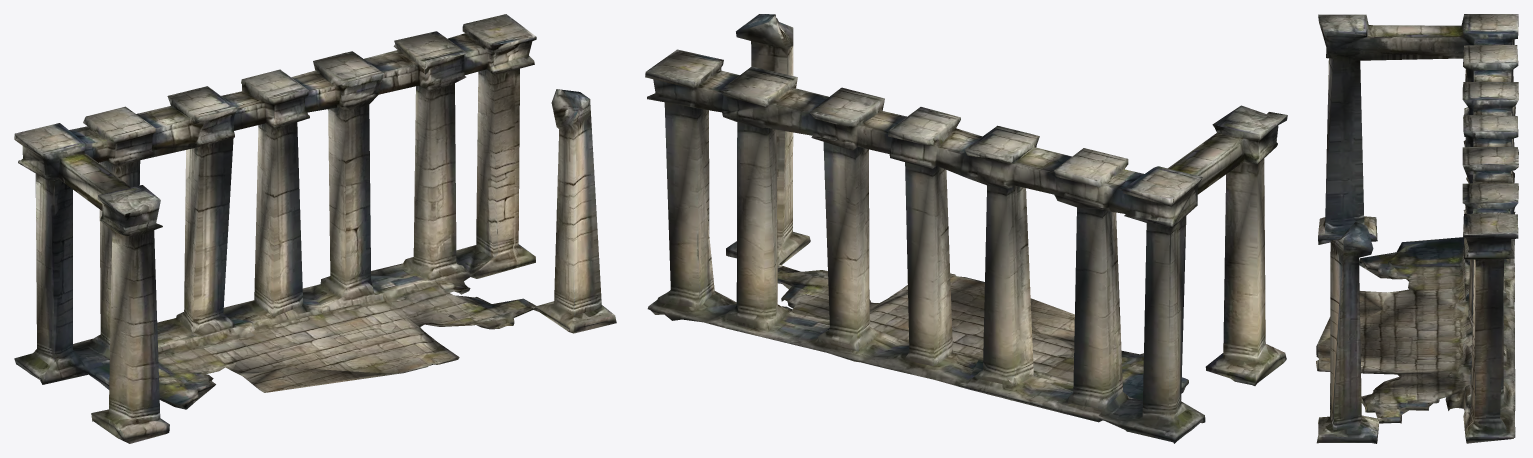
Rendered from columns_ancient_stone_ruins.glb.
The picture shows the model from 3 angles, left to right: view 1: azimuth 30°, elevation 25°; view 2: azimuth 150°, elevation 25°; view 3: azimuth 270°, elevation 25°; orthographic projection. The views are drawn at different scales.
Parts seen in each view (by area): view 1: Object_4; view 2: Object_4; view 3: Object_4.
Boxes of the visible parts, box(x1,y1,x2,y2) form: Object_4: box(14, 14, 616, 443); Object_4: box(645, 14, 1287, 443); Object_4: box(1316, 14, 1518, 443).
Bounding box in the file's own units: 2 × 0.9037 × 0.7736.
Materials: 1 (1 with a texture image).
